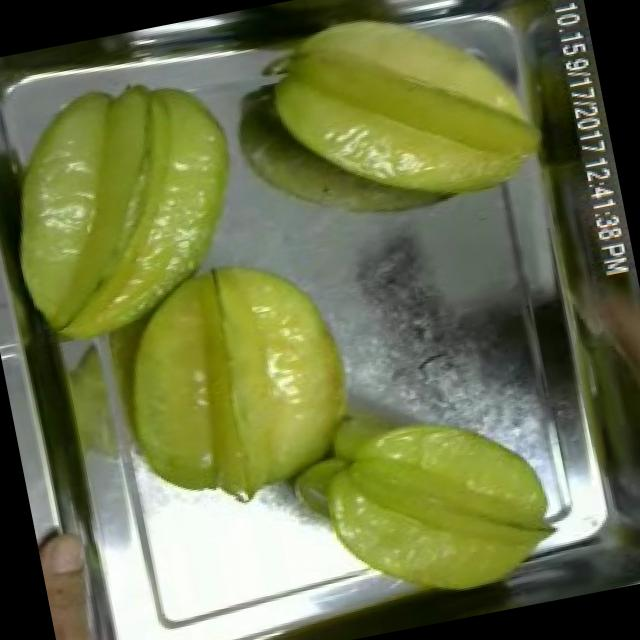fruit: (88, 225, 380, 532), (0, 53, 274, 365), (240, 0, 560, 244), (298, 382, 578, 628), (33, 510, 137, 640)
